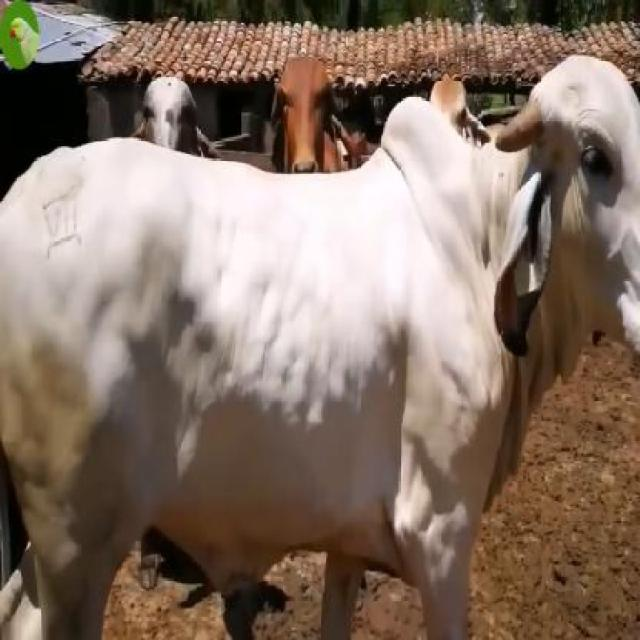Cow: (1, 57, 638, 638)
